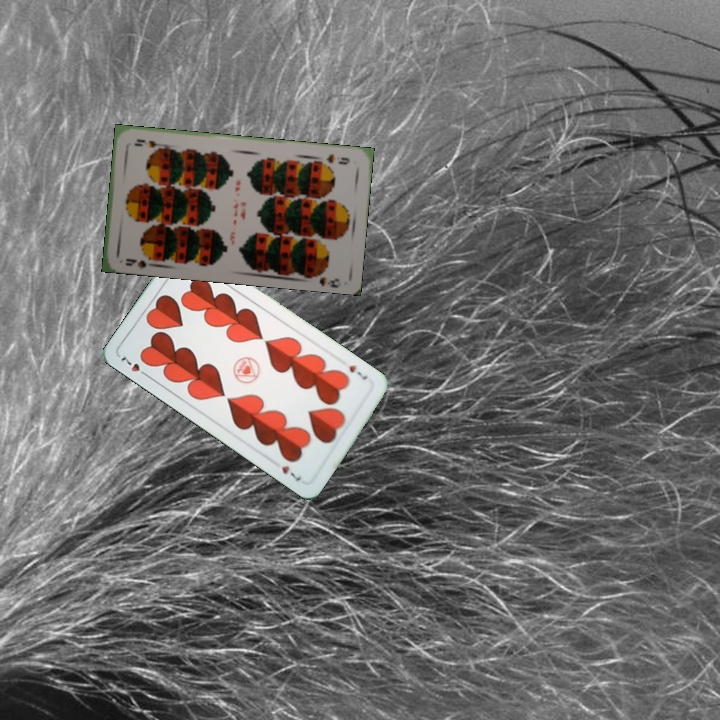H7: (116, 353, 151, 380), (345, 361, 370, 383)
S9: (122, 252, 158, 271), (322, 150, 352, 167)
